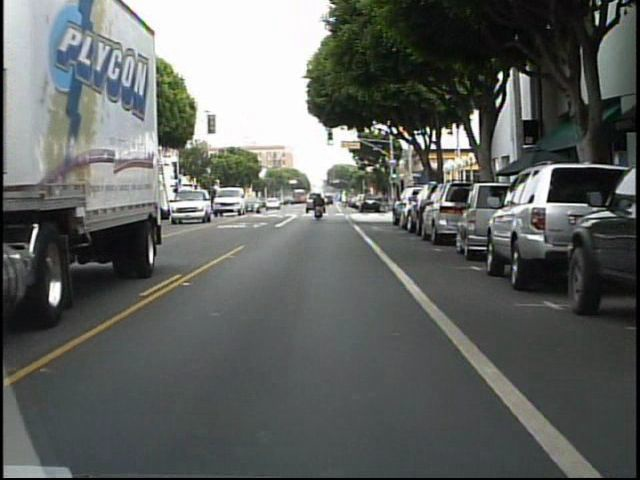person: (312, 192, 327, 221)
